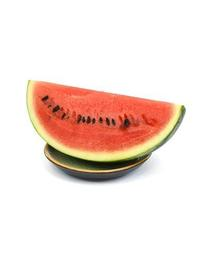watermelon: (24, 78, 185, 163)
